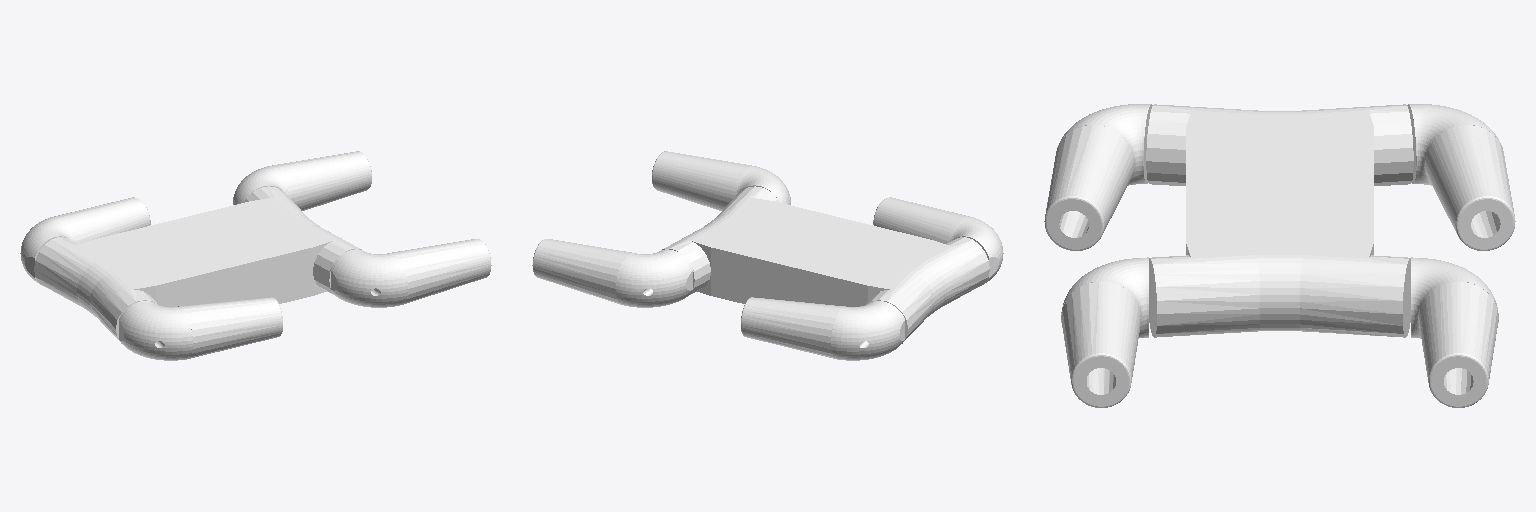
robot.urdf — 8_degree:
<?xml version="1.0" encoding="utf-8"?>
<!-- This URDF was automatically created by SolidWorks to URDF Exporter! Originally created by [author] ([email redacted]) 
     Commit Version: 1.5.1-0-g916b5db  Build Version: 1.5.7152.31018
     For more information, please see http://wiki.ros.org/sw_urdf_exporter -->
<robot
  name="8_degree">
  <link
    name="base_link">
    <inertial>
      <origin
        xyz="2.7756E-17 2.1006E-08 0"
        rpy="0 0 0" />
      <mass
        value="2.942" />
      <inertia
        ixx="0.0102224"
        ixy="1.2606E-18"
        ixz="-1.5166E-10"
        iyy="0.040309"
        iyz="-5.3296E-19"
        izz="0.0481413" />
    </inertial>
    <visual>
      <origin
        xyz="0 0 0"
        rpy="0 0 0" />
      <geometry>
        <mesh
          filename="package://8_degree/meshes/base_link.STL" />
      </geometry>
      <material
        name="">
        <color
          rgba="1 1 1 1" />
      </material>
    </visual>
    <collision>
      <origin
        xyz="0 0 0"
        rpy="0 0 0" />
      <geometry>
        <mesh
          filename="package://8_degree/meshes/base_link.STL" />
      </geometry>
    </collision>
  </link>
  <link
    name="left_front_link">
    <inertial>
      <origin
        xyz="-2.73E-08 0.061288 -0.027751"
        rpy="0 0 0" />
      <mass
        value="0.092" />
      <inertia
        ixx="0.0002604"
        ixy="4.5616E-10"
        ixz="1.0096E-09"
        iyy="0.0000503"
        iyz="-0.65E-05"
        izz="0.0002598" />
    </inertial>
    <visual>
      <origin
        xyz="0 0 0"
        rpy="0 0 0" />
      <geometry>
        <mesh
          filename="package://8_degree/meshes/left_front_link.STL" />
      </geometry>
      <material
        name="">
        <color
          rgba="1 1 1 1" />
      </material>
    </visual>
    <collision>
      <origin
        xyz="0 0 0"
        rpy="0 0 0" />
      <geometry>
        <mesh
          filename="package://8_degree/meshes/left_front_link.STL" />
      </geometry>
    </collision>
  </link>
  <joint
    name="left_front_leg"
    type="continuous">
    <origin
      xyz="0.14433 0.102 0"
      rpy="1.5708 1.5708 0" />
    <parent
      link="base_link" />
    <child
      link="left_front_link" />
    <axis
      xyz="0 0.13917 -0.99027" />
    <limit
      effort="5"
      velocity="487" />
  </joint>
  <link
    name="right_front_link">
    <inertial>
      <origin
        xyz="2.73E-08 0.061288 0.027751"
        rpy="0 0 0" />
      <mass
        value="0.092" />
      <inertia
        ixx="0.0002604"
        ixy="-4.5616E-10"
        ixz="1.0096E-09"
        iyy="0.0000503"
        iyz="0.65E-05"
        izz="0.0002598" />
    </inertial>
    <visual>
      <origin
        xyz="0 0 0"
        rpy="0 0 0" />
      <geometry>
        <mesh
          filename="package://8_degree/meshes/right_front_link.STL" />
      </geometry>
      <material
        name="">
        <color
          rgba="1 1 1 1" />
      </material>
    </visual>
    <collision>
      <origin
        xyz="0 0 0"
        rpy="0 0 0" />
      <geometry>
        <mesh
          filename="package://8_degree/meshes/right_front_link.STL" />
      </geometry>
    </collision>
  </link>
  <joint
    name="right_front_leg"
    type="continuous">
    <origin
      xyz="0.14433 -0.102 0"
      rpy="1.5708 1.5708 0" />
    <parent
      link="base_link" />
    <child
      link="right_front_link" />
    <axis
      xyz="0 0.13917 0.99027" />
    <limit
      effort="5"
      velocity="487" />
  </joint>
  <link
    name="right_back_link">
    <inertial>
      <origin
        xyz="4.6838E-09 0.05683 0.03601"
        rpy="0 0 0" />
      <mass
        value="0.092" />
      <inertia
        ixx="0.0002604"
        ixy="-5.3764E-10"
        ixz="5.9261E-10"
        iyy="0.0000526"
        iyz="-2.27E-05"
        izz="0.0002575" />
    </inertial>
    <visual>
      <origin
        xyz="0 0 0"
        rpy="0 0 0" />
      <geometry>
        <mesh
          filename="package://8_degree/meshes/right_back_link.STL" />
      </geometry>
      <material
        name="">
        <color
          rgba="1 1 1 1" />
      </material>
    </visual>
    <collision>
      <origin
        xyz="0 0 0"
        rpy="0 0 0" />
      <geometry>
        <mesh
          filename="package://8_degree/meshes/right_back_link.STL" />
      </geometry>
    </collision>
  </link>
  <joint
    name="right_back_leg"
    type="continuous">
    <origin
      xyz="-0.14433 -0.102 0"
      rpy="1.7104 1.5708 0" />
    <parent
      link="base_link" />
    <child
      link="right_back_link" />
    <axis
      xyz="0 0 1" />
    <limit
      effort="5"
      velocity="487" />
  </joint>
  <link
    name="left_back_link">
    <inertial>
      <origin
        xyz="-4.6838E-09 0.051265 -0.043569"
        rpy="0 0 0" />
      <mass
        value="0.092" />
      <inertia
        ixx="0.0002604"
        ixy="6.1489E-10"
        ixz="5.1201E-10"
        iyy="0.0000628"
        iyz="0.0000500"
        izz="0.0002473" />
    </inertial>
    <visual>
      <origin
        xyz="0 0 0"
        rpy="0 0 0" />
      <geometry>
        <mesh
          filename="package://8_degree/meshes/left_back_link.STL" />
      </geometry>
      <material
        name="">
        <color
          rgba="1 1 1 1" />
      </material>
    </visual>
    <collision>
      <origin
        xyz="0 0 0"
        rpy="0 0 0" />
      <geometry>
        <mesh
          filename="package://8_degree/meshes/left_back_link.STL" />
      </geometry>
    </collision>
  </link>
  <joint
    name="left_back_leg"
    type="continuous">
    <origin
      xyz="-0.14433 0.102 0"
      rpy="1.5708 1.5708 0" />
    <parent
      link="base_link" />
    <child
      link="left_back_link" />
    <axis
      xyz="0 -0.13917 -0.99027" />
    <limit
      effort="5"
      velocity="487" />
  </joint>
</robot>

--- What the picture shows (computed from the rendered views, not written in the file) ---
Views: 3 orthographic renders of the robot side by side, from view 1: azimuth 30°, elevation 25°; view 2: azimuth 150°, elevation 25°; view 3: azimuth 270°, elevation 25°.
Robot: 8_degree — 5 links, 4 joints (4 continuous); root link base_link; default pose: all joints at 0.
Visible links, largest first — view 1: base_link, right_back_link, right_front_link, left_front_link, left_back_link; view 2: base_link, left_back_link, left_front_link, right_front_link, right_back_link; view 3: base_link, left_back_link, right_back_link, left_front_link, right_front_link.
Boxes of the visible links, x1,y1,x2,y2 form: base_link: (34, 186, 361, 343); right_back_link: (119, 297, 282, 360); right_front_link: (330, 239, 491, 307); left_front_link: (233, 151, 371, 210); left_back_link: (20, 197, 150, 285); base_link: (662, 186, 989, 343); left_back_link: (741, 297, 904, 360); left_front_link: (532, 239, 693, 307); right_front_link: (652, 151, 790, 210); right_back_link: (873, 197, 1003, 285); base_link: (1146, 104, 1413, 337); left_back_link: (1407, 104, 1515, 250); right_back_link: (1044, 104, 1152, 250); left_front_link: (1411, 257, 1498, 407); right_front_link: (1061, 257, 1148, 407).
Bounding box of the posed robot: 0.4787 × 0.3749 × 0.064 m (x, y, z).
5 mesh visuals loaded from 5 distinct referenced files (5 binary STL).